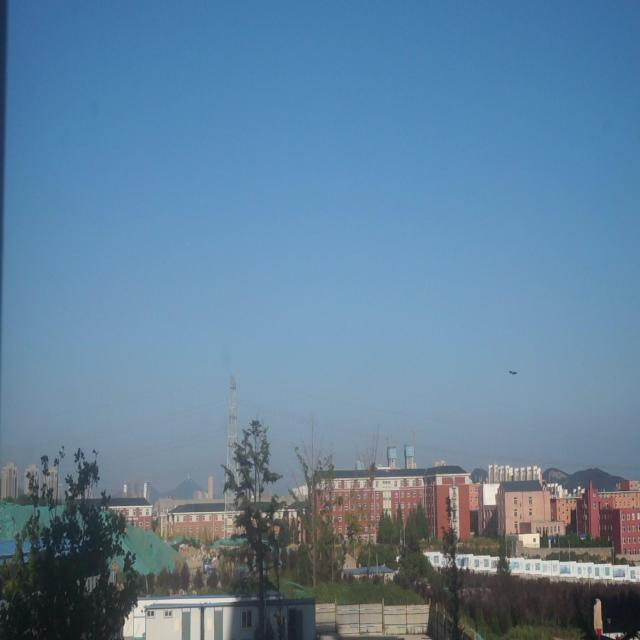drone: (509, 366, 519, 381)
